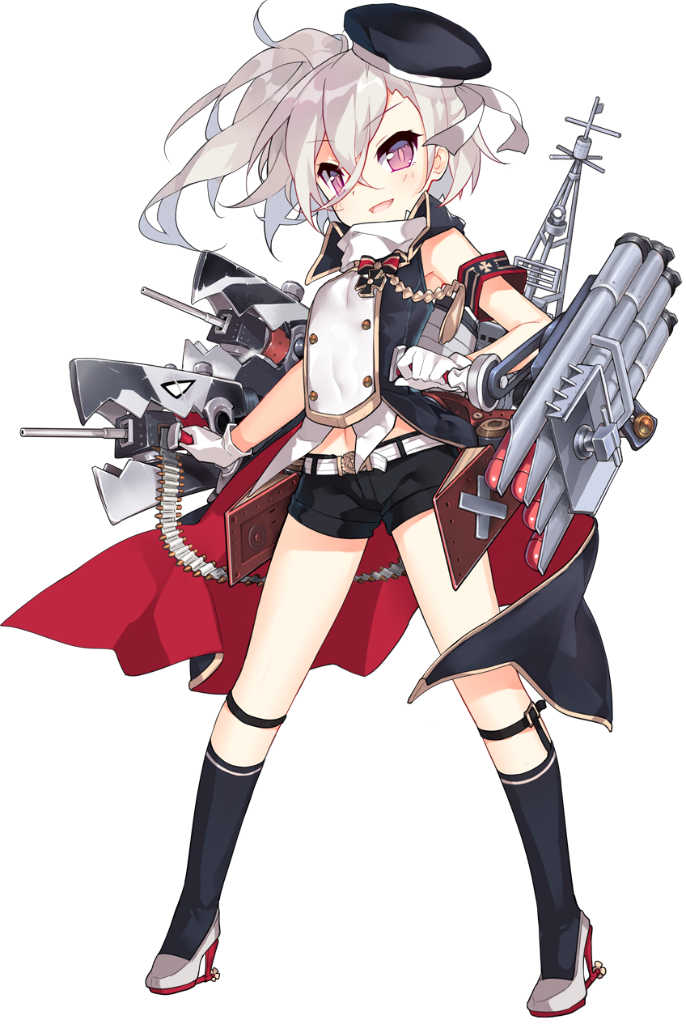person: (10, 4, 686, 877)
